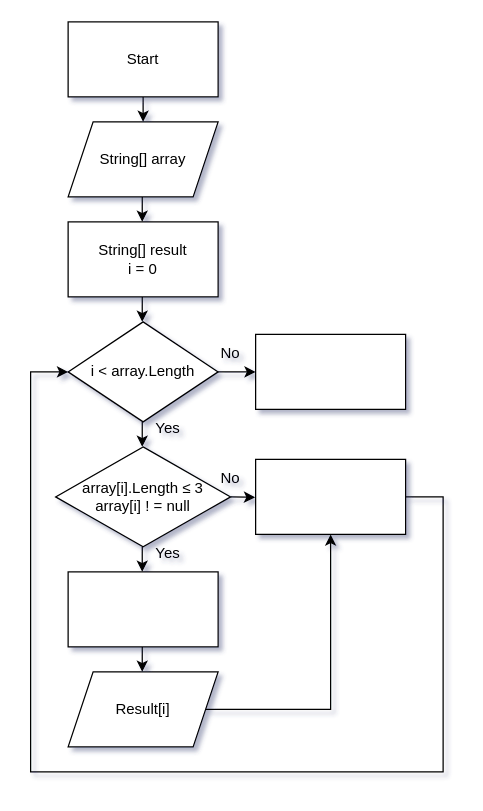
Some shapes in this 483 by 811 pixel diagram are drawn without their labels. Here are the shapes that lost their labels. From the top down, the box of each, then its label:
(254, 333, 406, 409): End
(254, 458, 406, 534): i = i + 1
(67, 571, 218, 647): result[i] = array[i]
